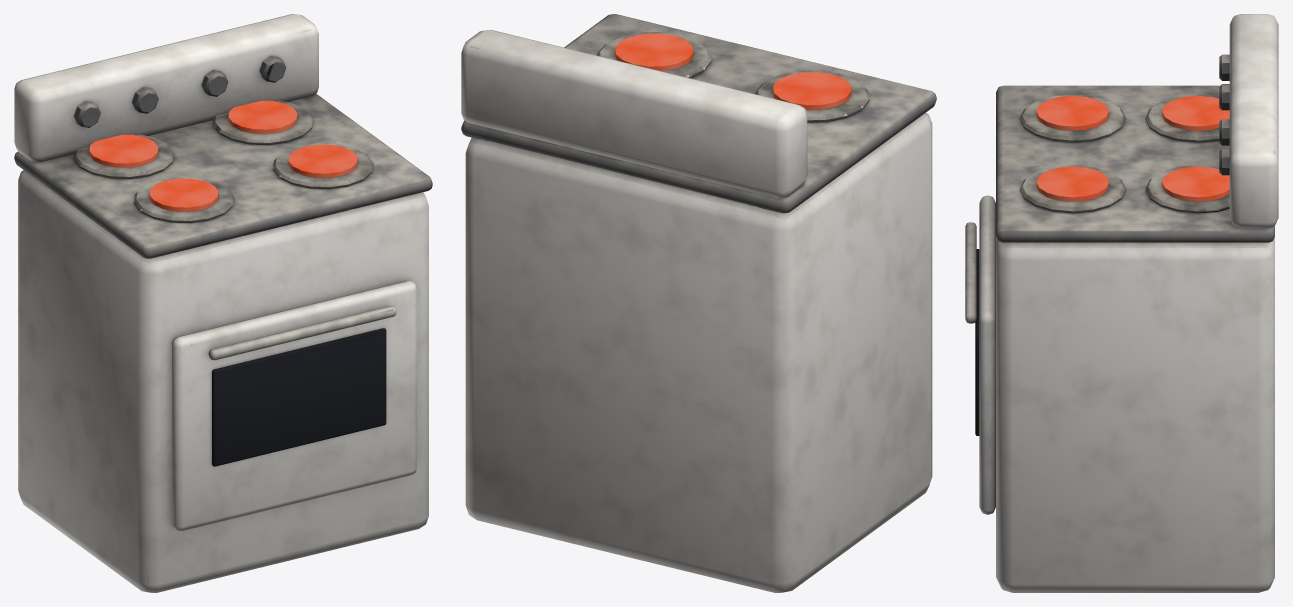
The model's file is stove.fbx.
3 views of the same model, side by side, from view 1: azimuth 30°, elevation 25°; view 2: azimuth 150°, elevation 25°; view 3: azimuth 270°, elevation 25° (orthographic). The views are drawn at different scales.
Parts seen in each view (by area): view 1: Body, Flap, Glow; view 2: Body, Glow; view 3: Body, Glow, Flap.
Boxes of the visible parts, x1,y1,x2,y2 form: Body: (14,14,432,592); Flap: (172,281,416,530); Glow: (89,100,357,211); Body: (461,14,936,592); Glow: (615,33,851,109); Body: (995,14,1278,592); Glow: (1036,96,1229,201); Flap: (965,195,995,514).
Size of the model in its own units: 2.5 by 3.5 by 2.25.
Materials: 1 (1 with a texture image).
